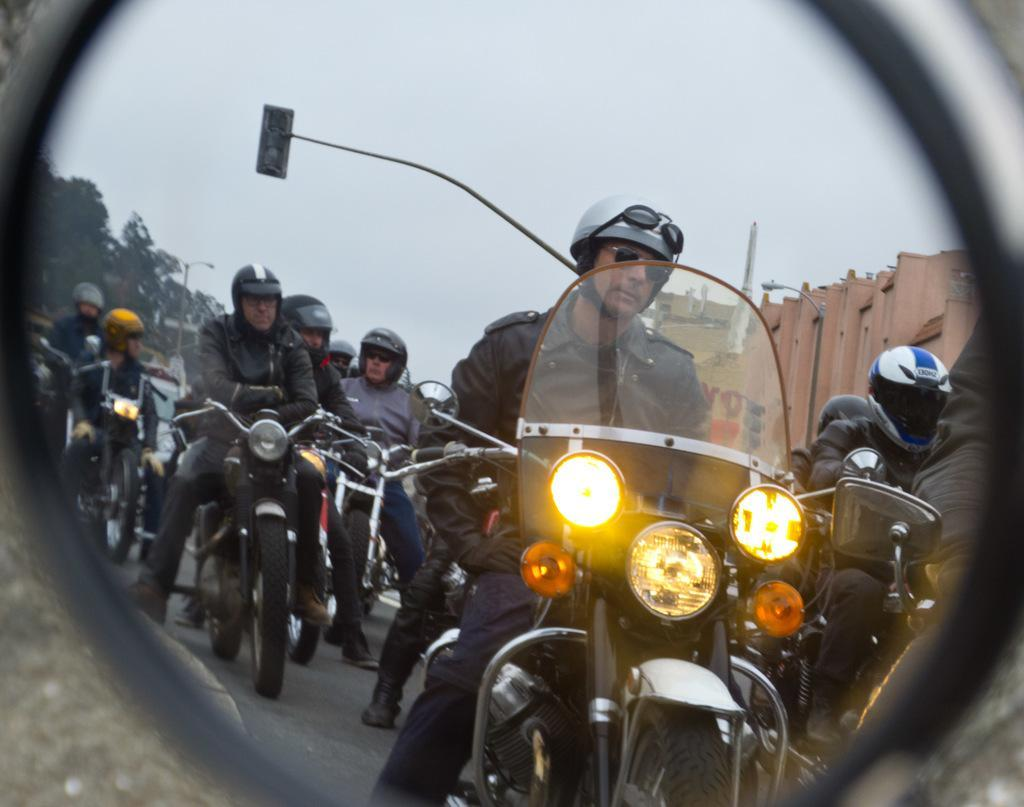helmet: (569, 192, 684, 323), (866, 344, 954, 463), (275, 292, 334, 368), (231, 262, 284, 340), (357, 325, 408, 390), (71, 280, 105, 323), (323, 341, 356, 378)
